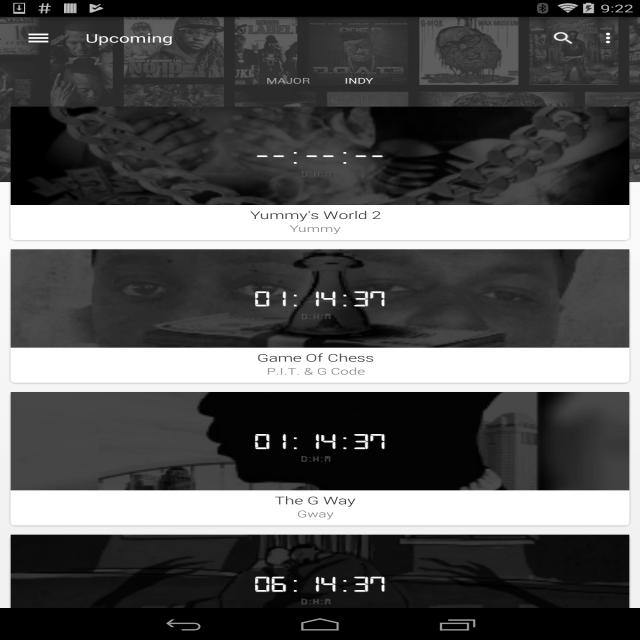ImageButton: (9, 17, 68, 59)
ImageView: (0, 17, 640, 183), (11, 249, 629, 348), (11, 107, 629, 205), (11, 392, 629, 490), (11, 535, 629, 633), (0, 16, 640, 32), (589, 22, 631, 54), (0, 182, 640, 183)
TextView: (248, 143, 392, 170), (248, 428, 392, 455), (248, 571, 392, 598), (248, 286, 392, 312), (248, 60, 328, 101), (327, 60, 391, 101), (250, 208, 390, 222), (257, 350, 382, 365), (538, 22, 588, 54), (85, 30, 173, 46), (267, 365, 373, 377), (274, 493, 364, 507), (289, 222, 350, 235), (297, 507, 342, 520), (300, 312, 338, 320), (300, 170, 338, 177), (300, 455, 338, 462), (300, 598, 338, 605)
